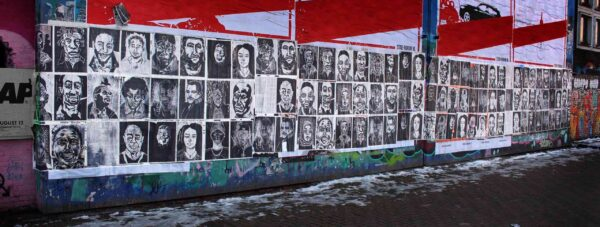poster: (34, 20, 572, 171)
